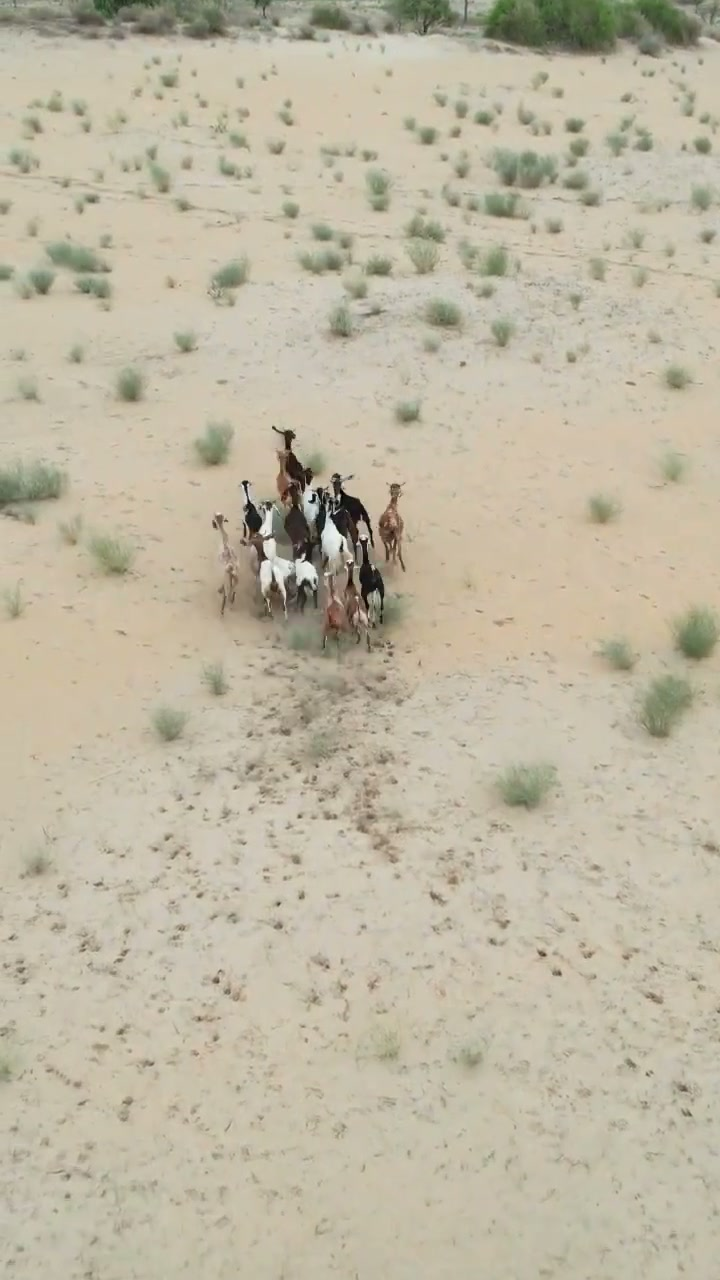animal_footprint: (21, 644, 706, 1268)
